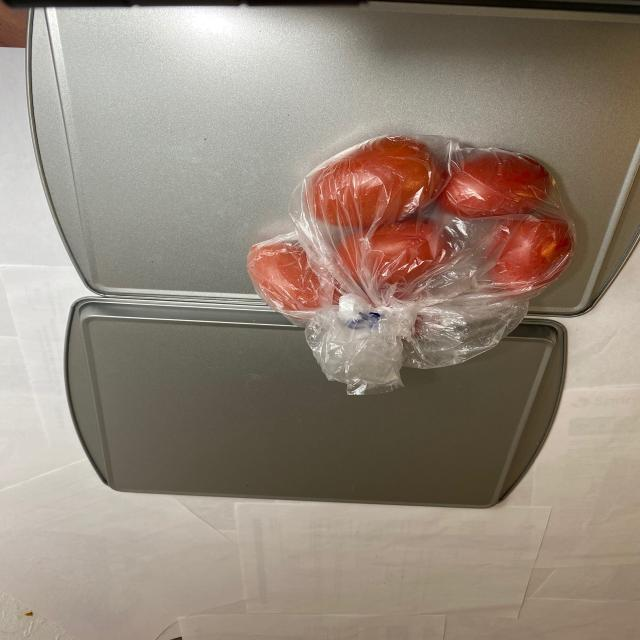tomato: (246, 134, 574, 372)
